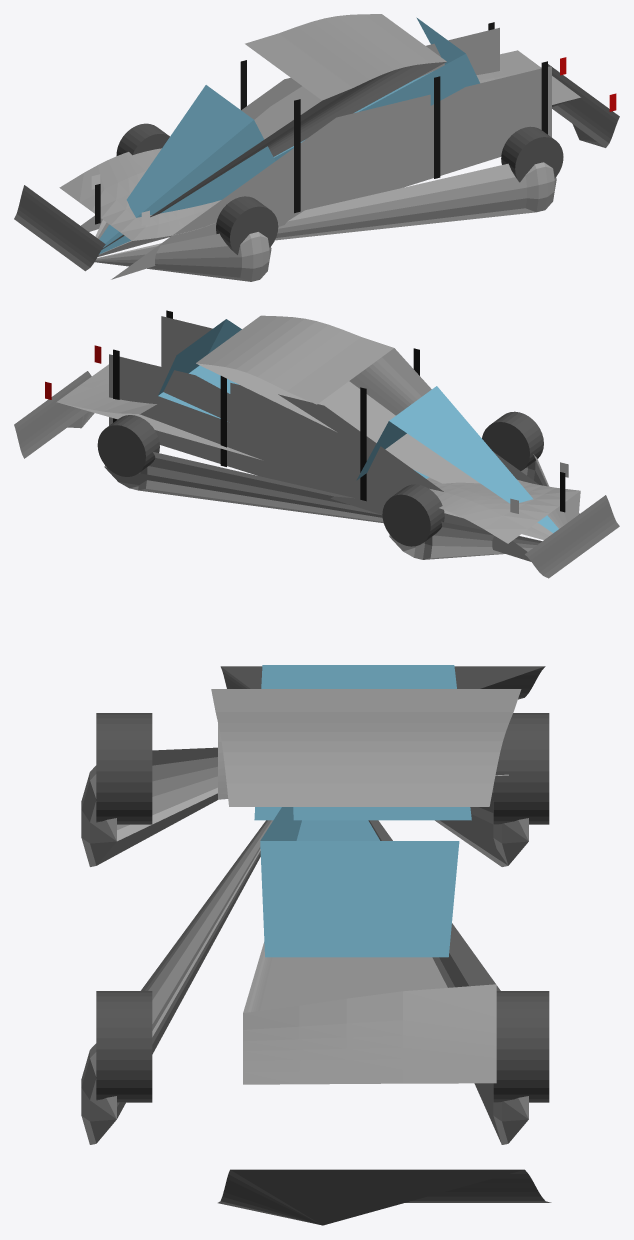
The model's file is car_model_1783985457.obj.
The picture shows the model from 3 angles, top to bottom: view 1: azimuth 30°, elevation 25°; view 2: azimuth 150°, elevation 25°; view 3: azimuth 270°, elevation 25°; orthographic projection. The views are drawn at different scales.
Visible parts, largest first — view 1: geometry_6, geometry_14, geometry_12, geometry_24, geometry_5, geometry_4, geometry_22, geometry_0, geometry_7, geometry_9, geometry_26, geometry_28 (+7 smaller); view 2: geometry_6, geometry_13, geometry_15, geometry_25, geometry_5, geometry_4, geometry_0, geometry_27, geometry_29, geometry_8, geometry_9, geometry_23 (+6 smaller); view 3: geometry_6, geometry_8, geometry_7, geometry_9, geometry_24, geometry_5, geometry_22, geometry_26, geometry_28, geometry_29, geometry_27, geometry_25 (+2 smaller).
Part boxes in pixels (x1,y1,x2,y2): geometry_6: (102, 14, 446, 249); geometry_14: (112, 66, 551, 279); geometry_12: (111, 94, 430, 279); geometry_24: (97, 162, 556, 258); geometry_5: (99, 85, 275, 254); geometry_4: (59, 148, 221, 257); geometry_22: (95, 232, 271, 281); geometry_0: (14, 185, 105, 271); geometry_7: (273, 17, 479, 160); geometry_9: (548, 64, 619, 147); geometry_26: (216, 196, 278, 254); geometry_28: (501, 126, 563, 182); geometry_6: (196, 315, 552, 535); geometry_13: (230, 383, 530, 561); geometry_15: (109, 354, 530, 561); geometry_25: (104, 452, 542, 541); geometry_5: (356, 386, 558, 533); geometry_4: (427, 477, 580, 543); geometry_0: (525, 495, 619, 578); geometry_27: (382, 484, 444, 546); geometry_29: (97, 415, 159, 476); geometry_8: (56, 356, 261, 459); geometry_9: (14, 371, 94, 458); geometry_23: (389, 521, 540, 559); geometry_6: (211, 689, 521, 806); geometry_8: (243, 942, 496, 1084); geometry_7: (260, 807, 459, 957); geometry_9: (218, 1169, 551, 1225); geometry_24: (81, 820, 272, 1144); geometry_5: (254, 665, 471, 820); geometry_22: (81, 747, 217, 866); geometry_26: (96, 713, 152, 824); geometry_28: (96, 991, 152, 1102); geometry_29: (493, 991, 549, 1102); geometry_27: (493, 713, 549, 824); geometry_25: (368, 820, 528, 1144).
Bounding box in the file's own units: 4960 × 1285 × 1898.
